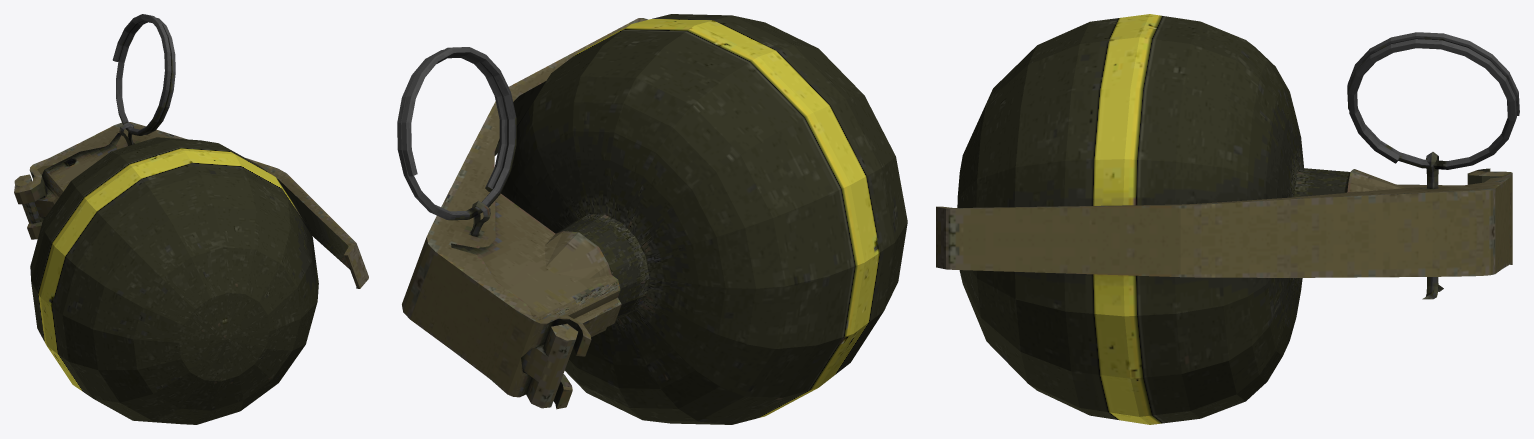
File: w_eq_fraggrenade_combine.obj
The picture shows the model from 3 angles, left to right: view 1: azimuth 30°, elevation 25°; view 2: azimuth 150°, elevation 25°; view 3: azimuth 270°, elevation 25°; orthographic projection. The views are drawn at different scales.
Bounding box in the file's own units: 0.0291 × 0.0319 × 0.0395.
Materials: 1 (1 with a texture image).
